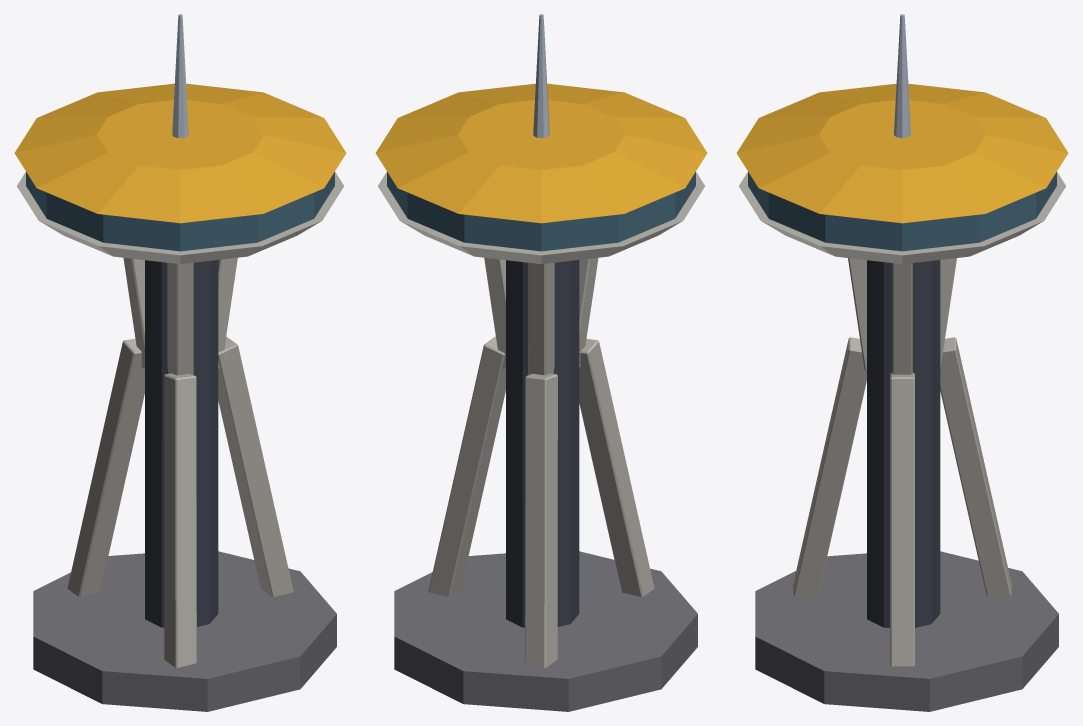
File: Stylized_Landmark_SpaceNeedle.fbx
3 renders of one model, left to right at view 1: azimuth 30°, elevation 25°; view 2: azimuth 150°, elevation 25°; view 3: azimuth 270°, elevation 25°, orthographic.
Parts seen in each view (by area): view 1: Stylized_Landmark_SpaceNeedle; view 2: Stylized_Landmark_SpaceNeedle; view 3: Stylized_Landmark_SpaceNeedle.
Part boxes in pixels (left/top/right/bottom): Stylized_Landmark_SpaceNeedle: left=14, top=14, right=346, bottom=711; Stylized_Landmark_SpaceNeedle: left=375, top=14, right=707, bottom=711; Stylized_Landmark_SpaceNeedle: left=736, top=14, right=1068, bottom=711.
Size of the model in its own units: 4.56 by 9.57 by 4.56.
